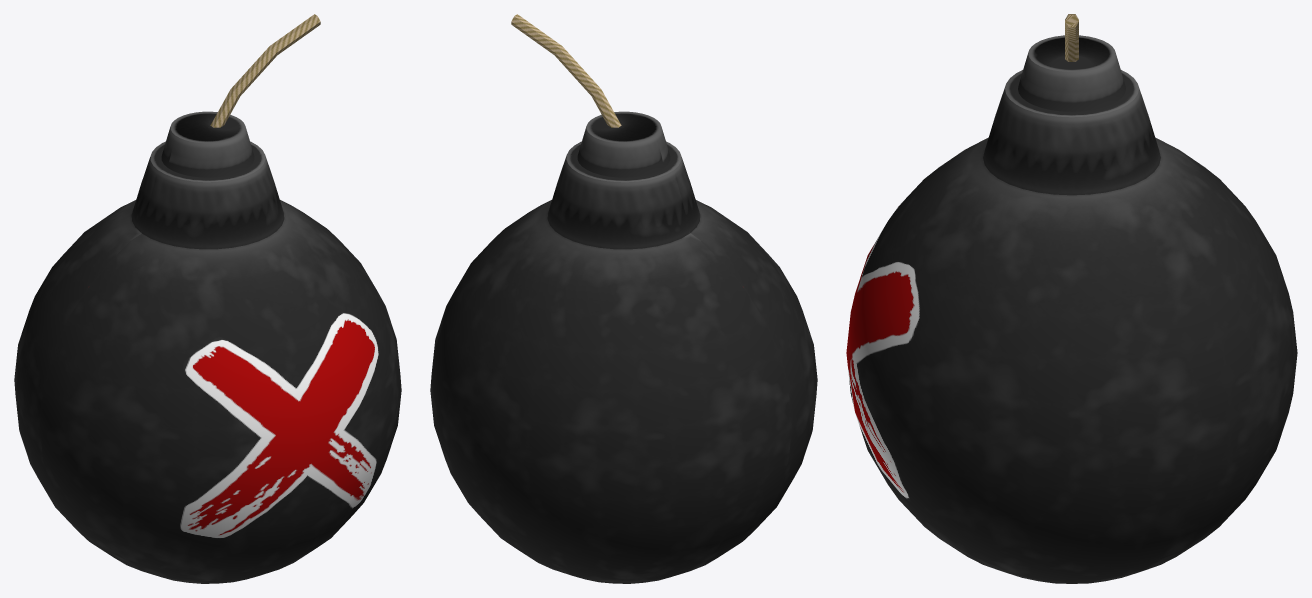
The model's file is Bomb.fbx.
3 renders of one model, left to right at view 1: azimuth 30°, elevation 25°; view 2: azimuth 150°, elevation 25°; view 3: azimuth 270°, elevation 25°, orthographic. The views are drawn at different scales.
Visible parts, largest first — view 1: Bomb; view 2: Bomb; view 3: Bomb.
Part boxes in pixels (x1=…): Bomb: x1=14, y1=14, x2=401, y2=583; Bomb: x1=430, y1=14, x2=817, y2=583; Bomb: x1=846, y1=14, x2=1297, y2=583.
Size of the model in its own units: 190 by 284 by 190.
1 material, 1 textured.
